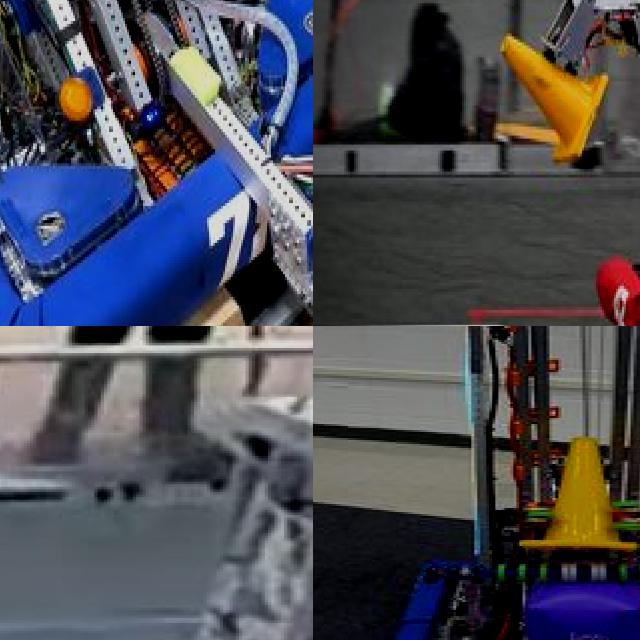FRC-Robots: (0, 0, 313, 326), (320, 326, 640, 640), (13, 359, 313, 640), (478, 0, 640, 326)
